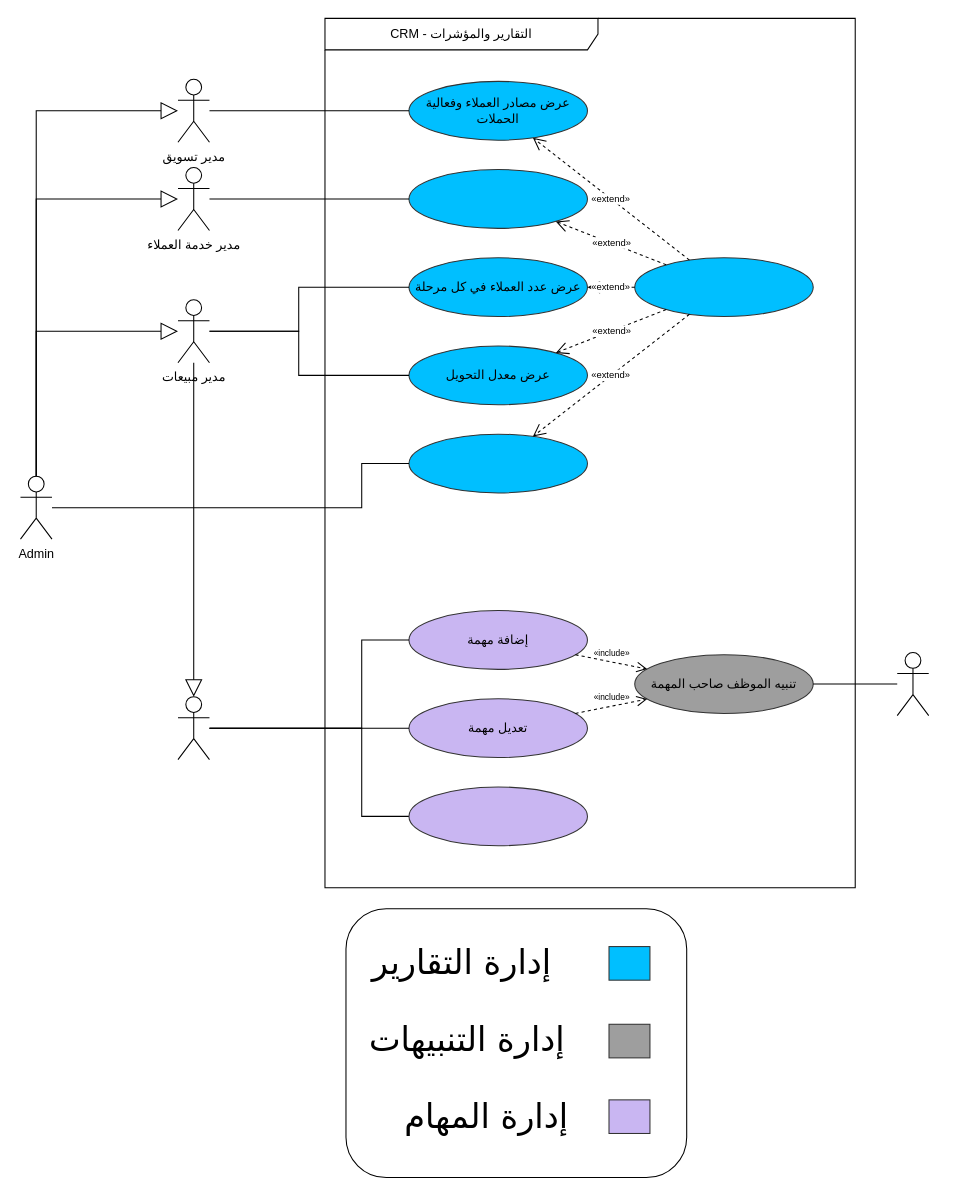
This 972x1196 diagram has some shape labels left out. The box of each missing label's shape, as (x1, y1, x2, y2) in pixels:
تصدير تقرير (اختياري): (634, 257, 813, 317)
حذف مهمة: (408, 786, 587, 846)
خدمة الإشعارات: (896, 652, 929, 716)
عرض لوحة مؤشرات شاملة للأقسام: (408, 433, 587, 493)
عرض مؤشرات خدمة العملاء: (408, 169, 587, 228)
مدير المهام: (177, 696, 209, 760)
